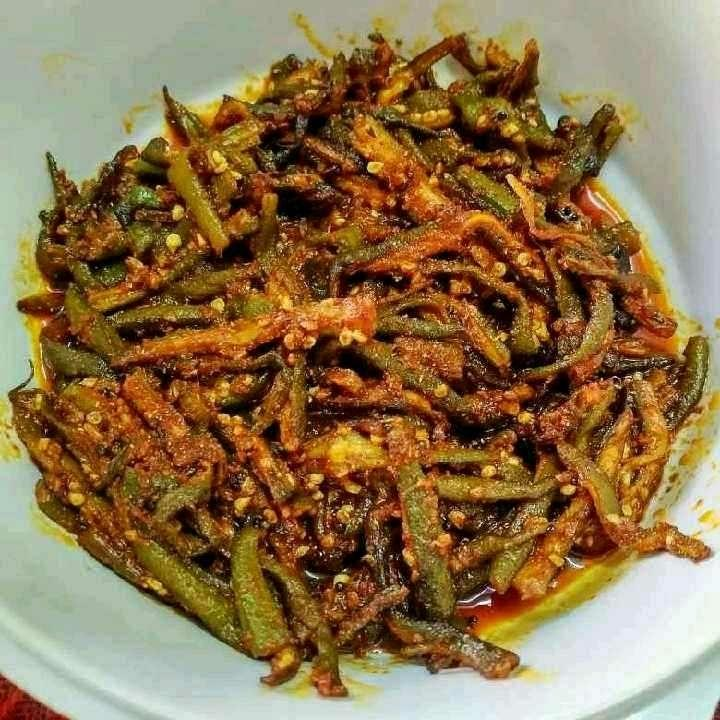bhindi: (81, 69, 678, 632)
